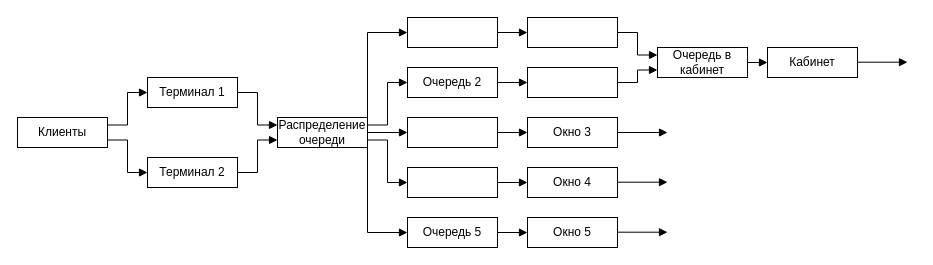
Some shapes in this 933 by 265 pixel diagram are drawn without their labels. The shapes that lost their labels are listed below. From the top down, each one's centre as x and y in pixels, then its label:
At point (452, 32): "Очередь 1".
At point (572, 32): "Окно 1".
At point (572, 82): "Окно 2".
At point (452, 132): "Очередь3".
At point (452, 182): "Очередь 4".
